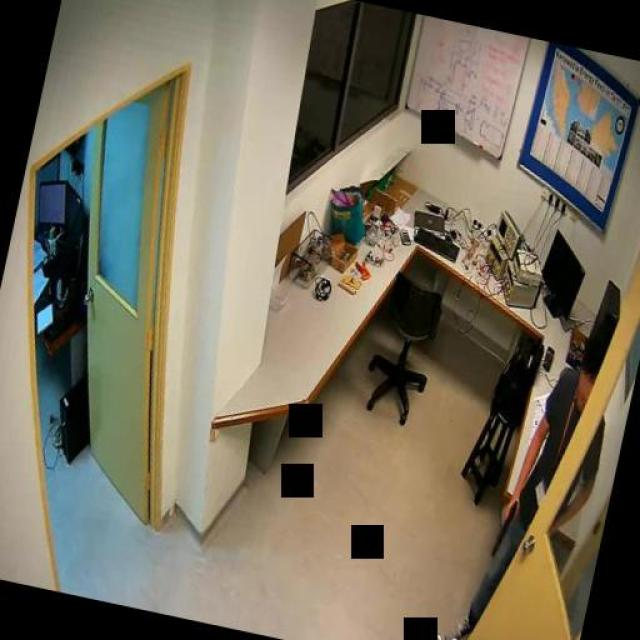gun: (489, 494, 519, 556)
